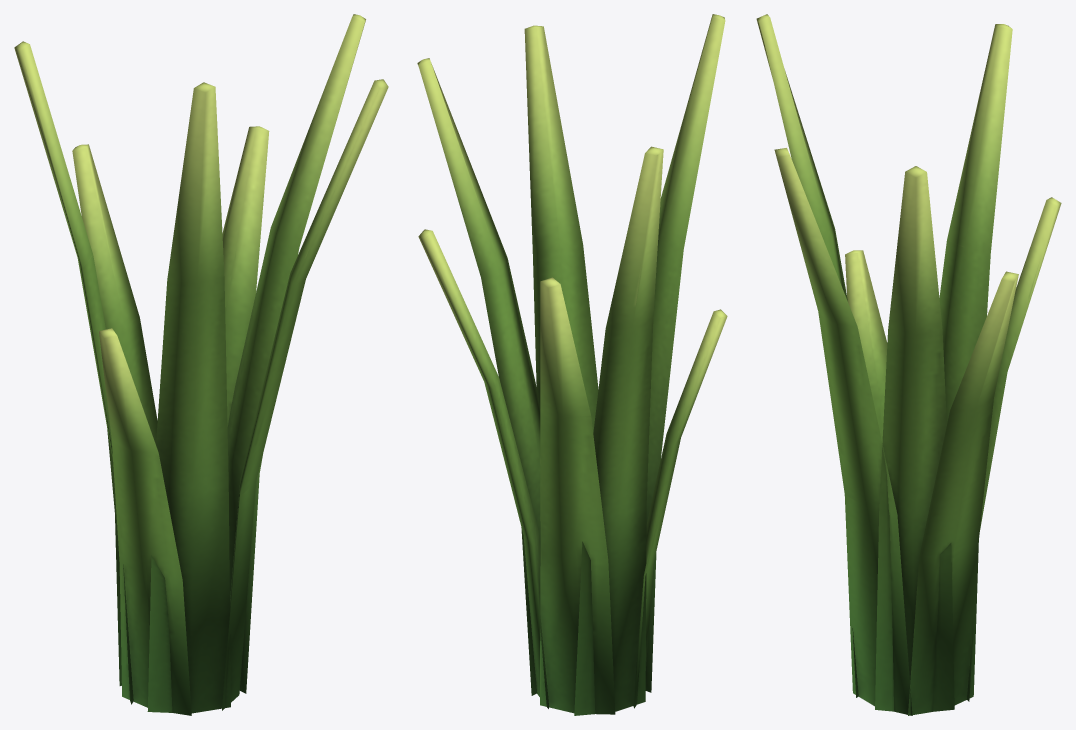
File: Hierba.fbx
3 views of the same model, side by side, from view 1: azimuth 30°, elevation 25°; view 2: azimuth 150°, elevation 25°; view 3: azimuth 270°, elevation 25° (orthographic). The views are drawn at different scales.
Visible parts, largest first — view 1: Malla; view 2: Malla; view 3: Malla.
Part boxes in pixels (x1,y1,x2,y2): Malla: (14, 14, 388, 715); Malla: (417, 14, 727, 715); Malla: (756, 14, 1061, 715).
Size of the model in its own units: 0.2523 by 0.5367 by 0.2291.
1 material, 1 textured.
